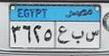2: (33, 24, 42, 45)
3: (11, 24, 21, 45)
5: (43, 29, 53, 43)
6: (22, 24, 31, 44)
ain: (57, 25, 70, 45)
baa: (70, 30, 84, 46)
seen: (85, 28, 99, 44)
